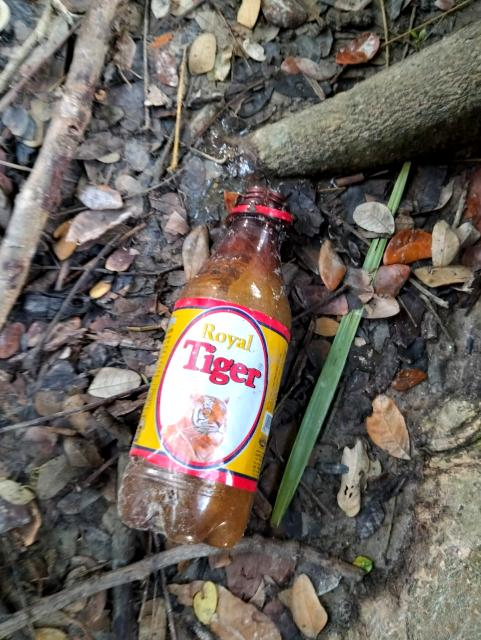bottle: (94, 202, 321, 556)
